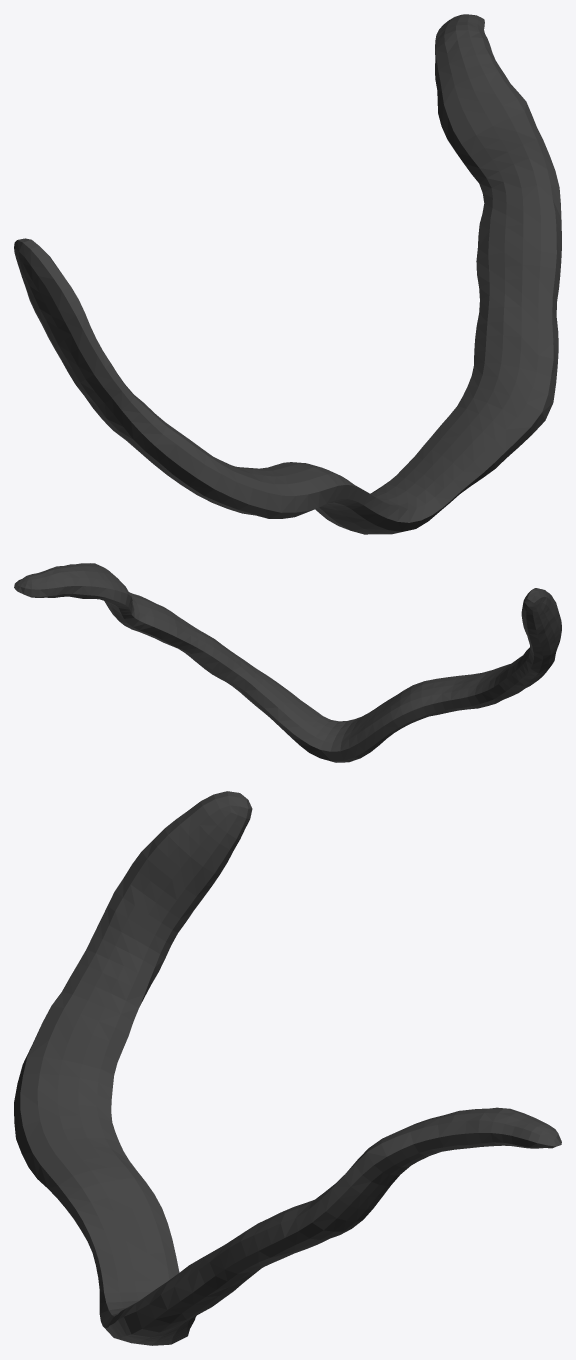
File: Pancreas_new_copy000.glb
3 views of the same model, one above another, from view 1: azimuth 30°, elevation 25°; view 2: azimuth 150°, elevation 25°; view 3: azimuth 270°, elevation 25° (orthographic). The views are drawn at different scales.
Visible parts, largest first — view 1: Pancreas_new_copy000; view 2: Pancreas_new_copy000; view 3: Pancreas_new_copy000.
Boxes of the visible parts, x1,y1,x2,y2 form: Pancreas_new_copy000: (14, 14, 561, 534); Pancreas_new_copy000: (14, 563, 561, 762); Pancreas_new_copy000: (14, 791, 561, 1345).
Size of the model in its own units: 101 by 54.38 by 71.92.
Materials: 1 (1 with a texture image).
